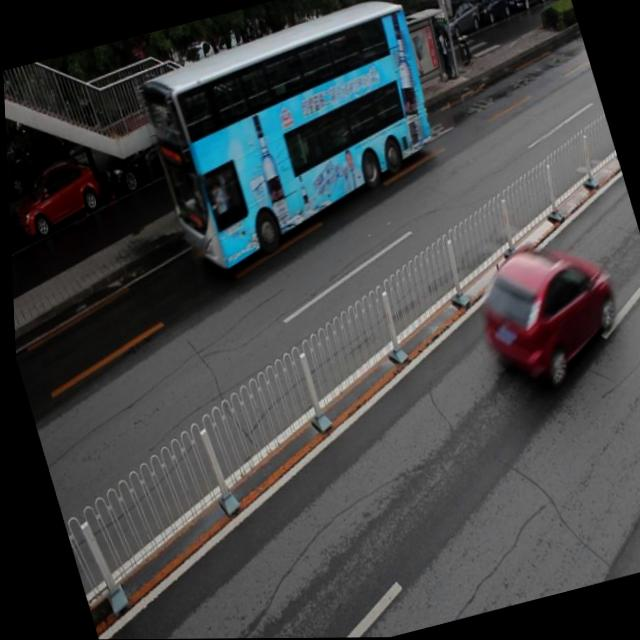car: (455, 224, 633, 403), (5, 154, 105, 243), (90, 116, 197, 195), (248, 48, 340, 125), (180, 79, 263, 153), (235, 84, 312, 163)
van: (129, 0, 464, 280)
